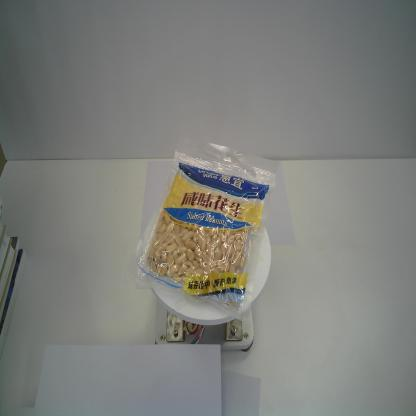Dried Fruit: (127, 136, 280, 323)
